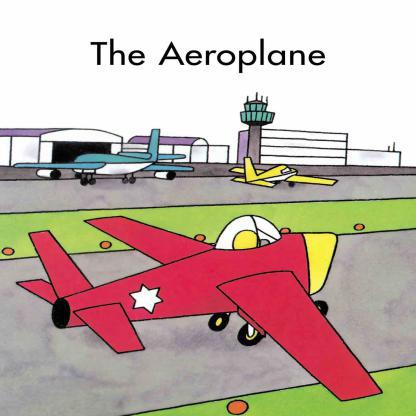CIV_Plane: (15, 211, 391, 406)
